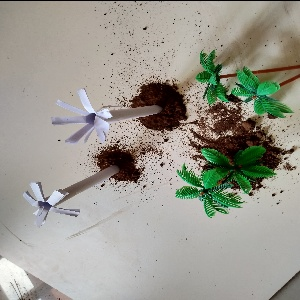plant: (181, 142, 283, 223), (194, 47, 291, 122)
weed: (18, 167, 142, 232), (43, 88, 179, 146)
